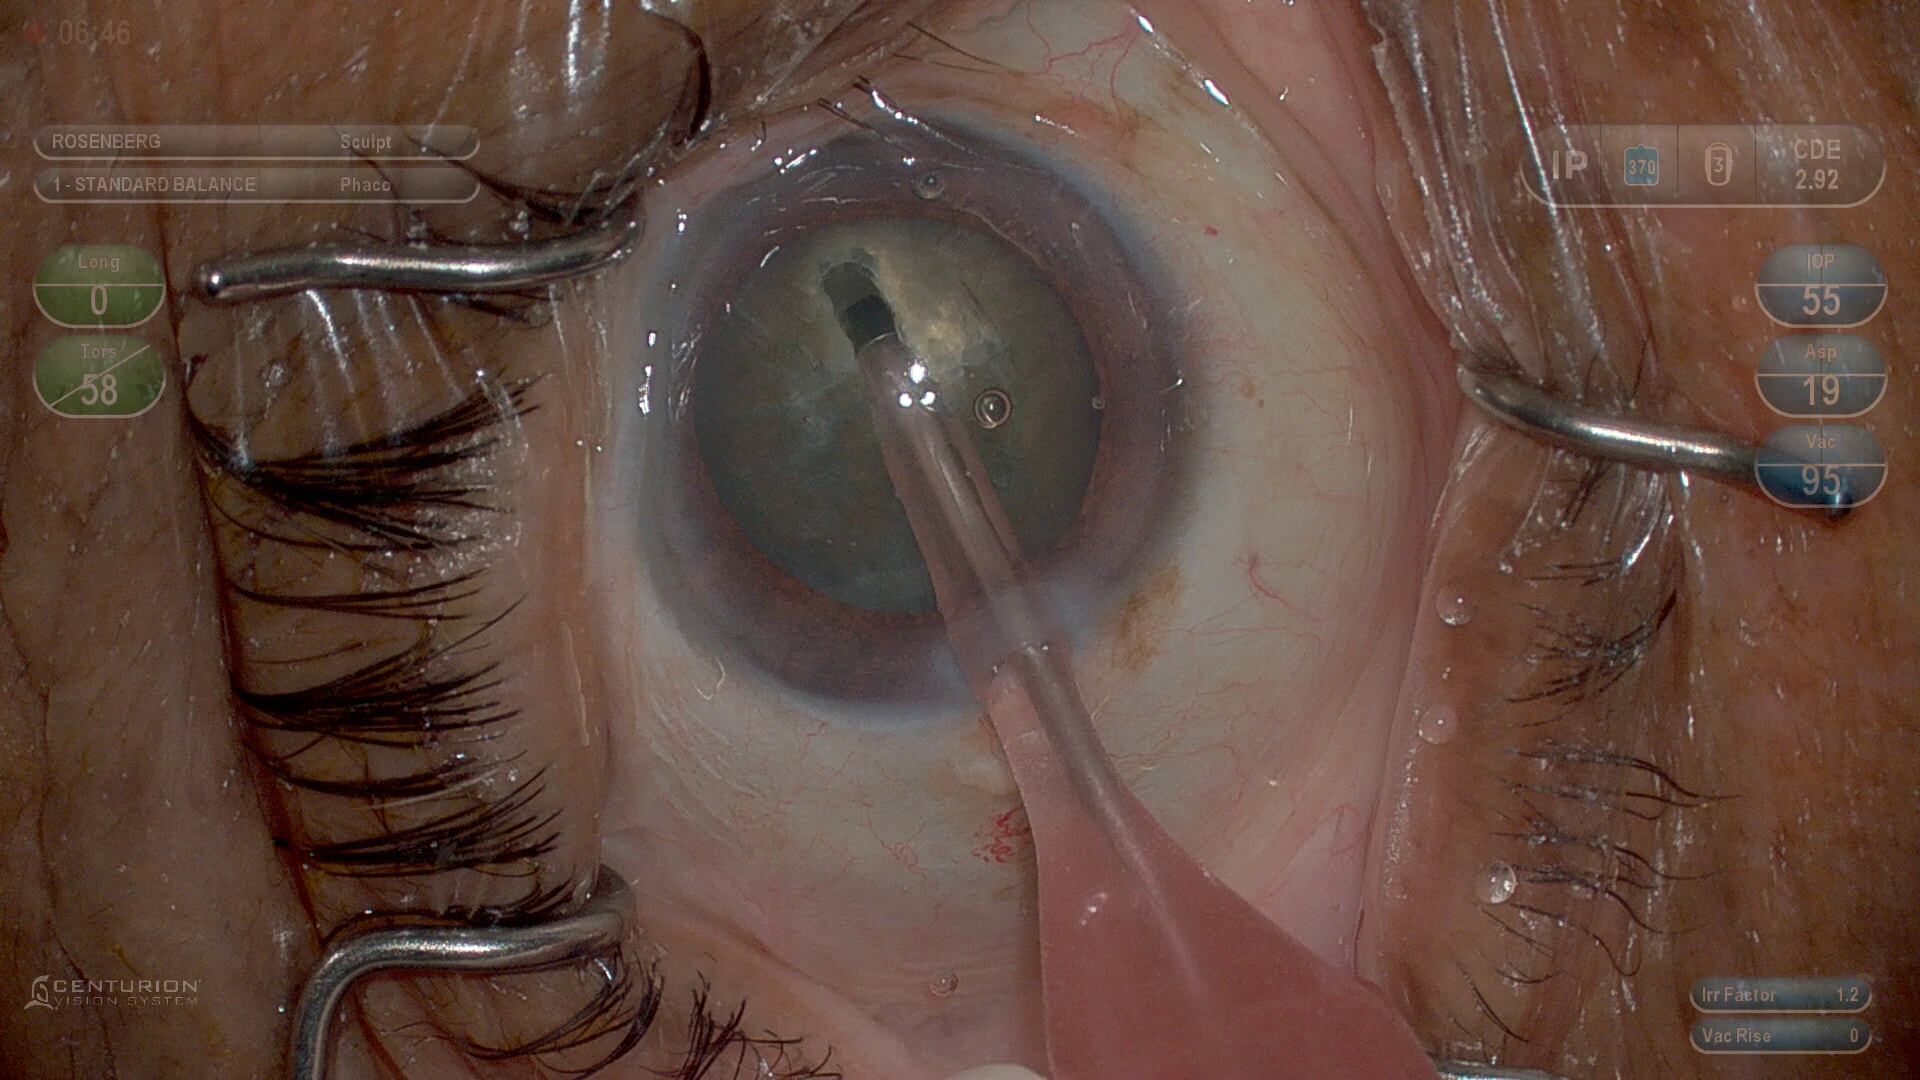iris: (638, 131, 1177, 707)
pupil: (694, 217, 1101, 614)
